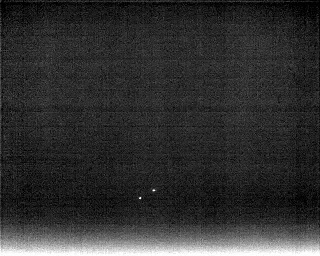BIRD: (150, 186, 158, 194)
